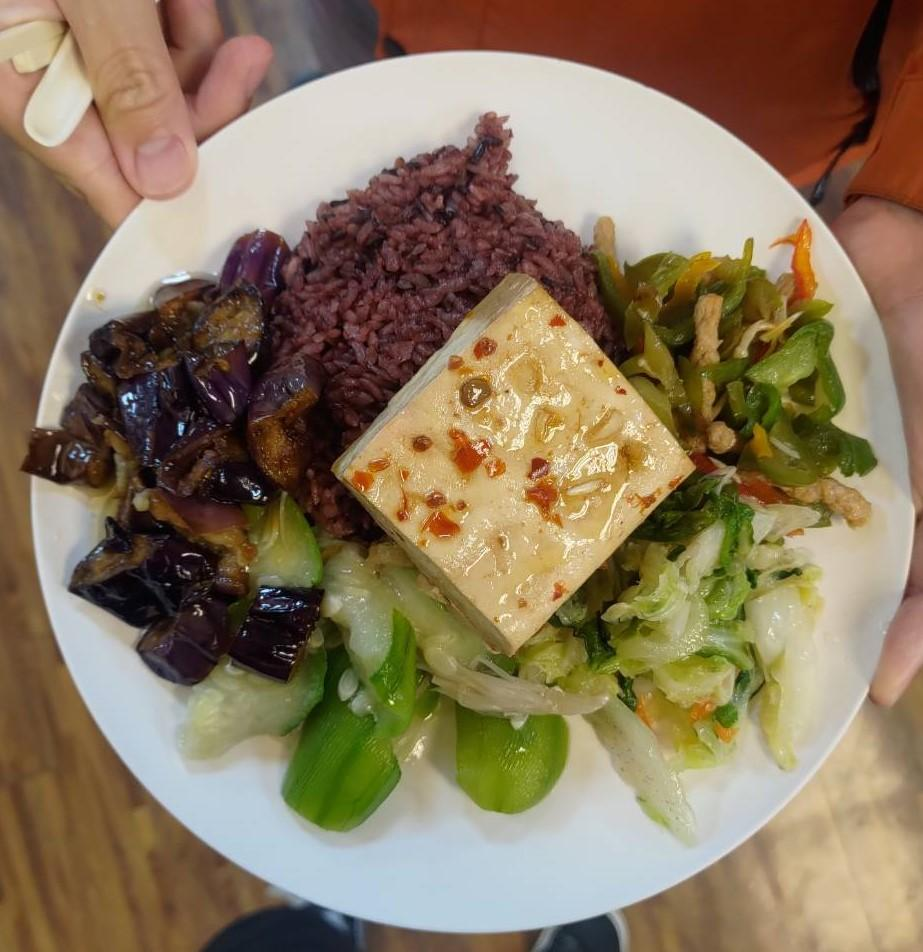big fried chicken leg: (19, 46, 922, 934)
braised fish: (281, 120, 618, 432)
braised fish fillet: (327, 274, 702, 659), (31, 228, 304, 679), (189, 538, 576, 819), (600, 206, 876, 520), (583, 516, 826, 833)
